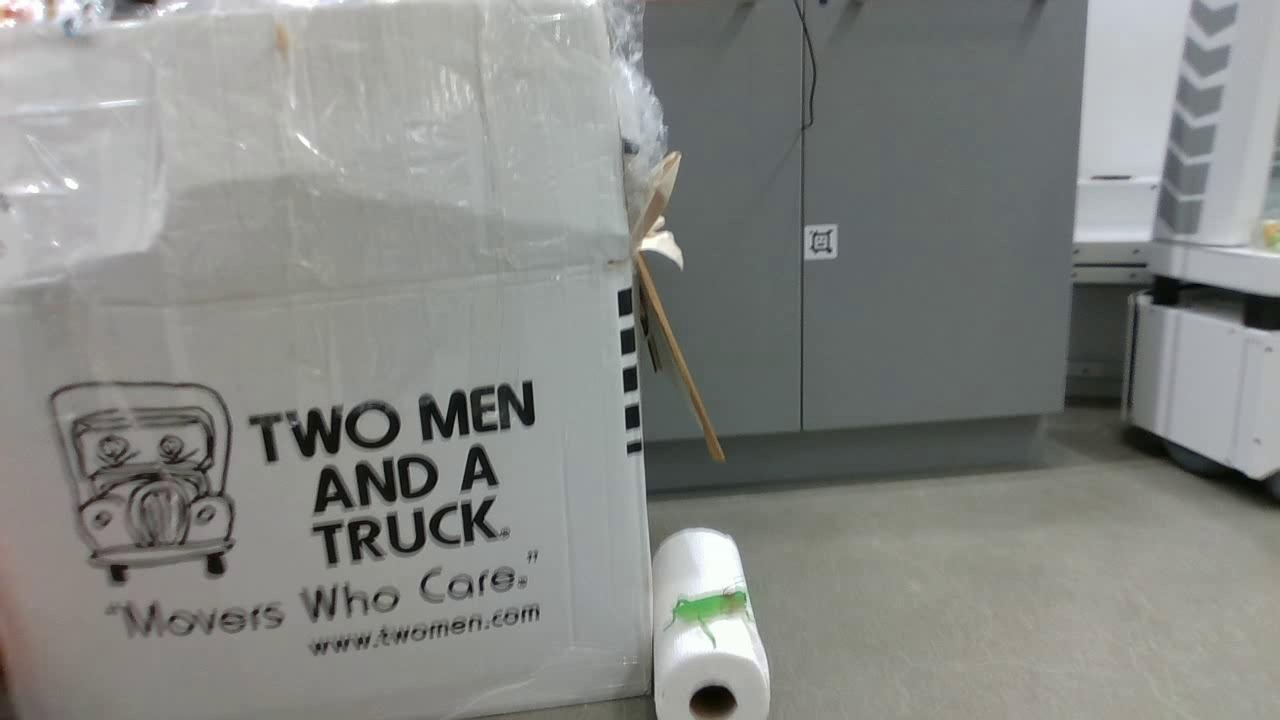grasshopper: (666, 591, 750, 649)
